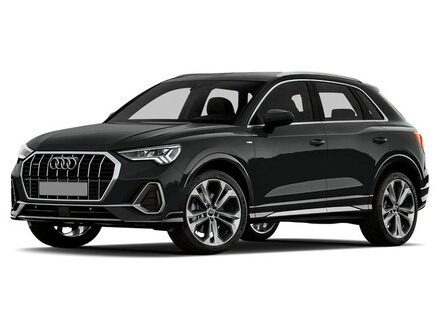audi: (4, 57, 433, 273)
